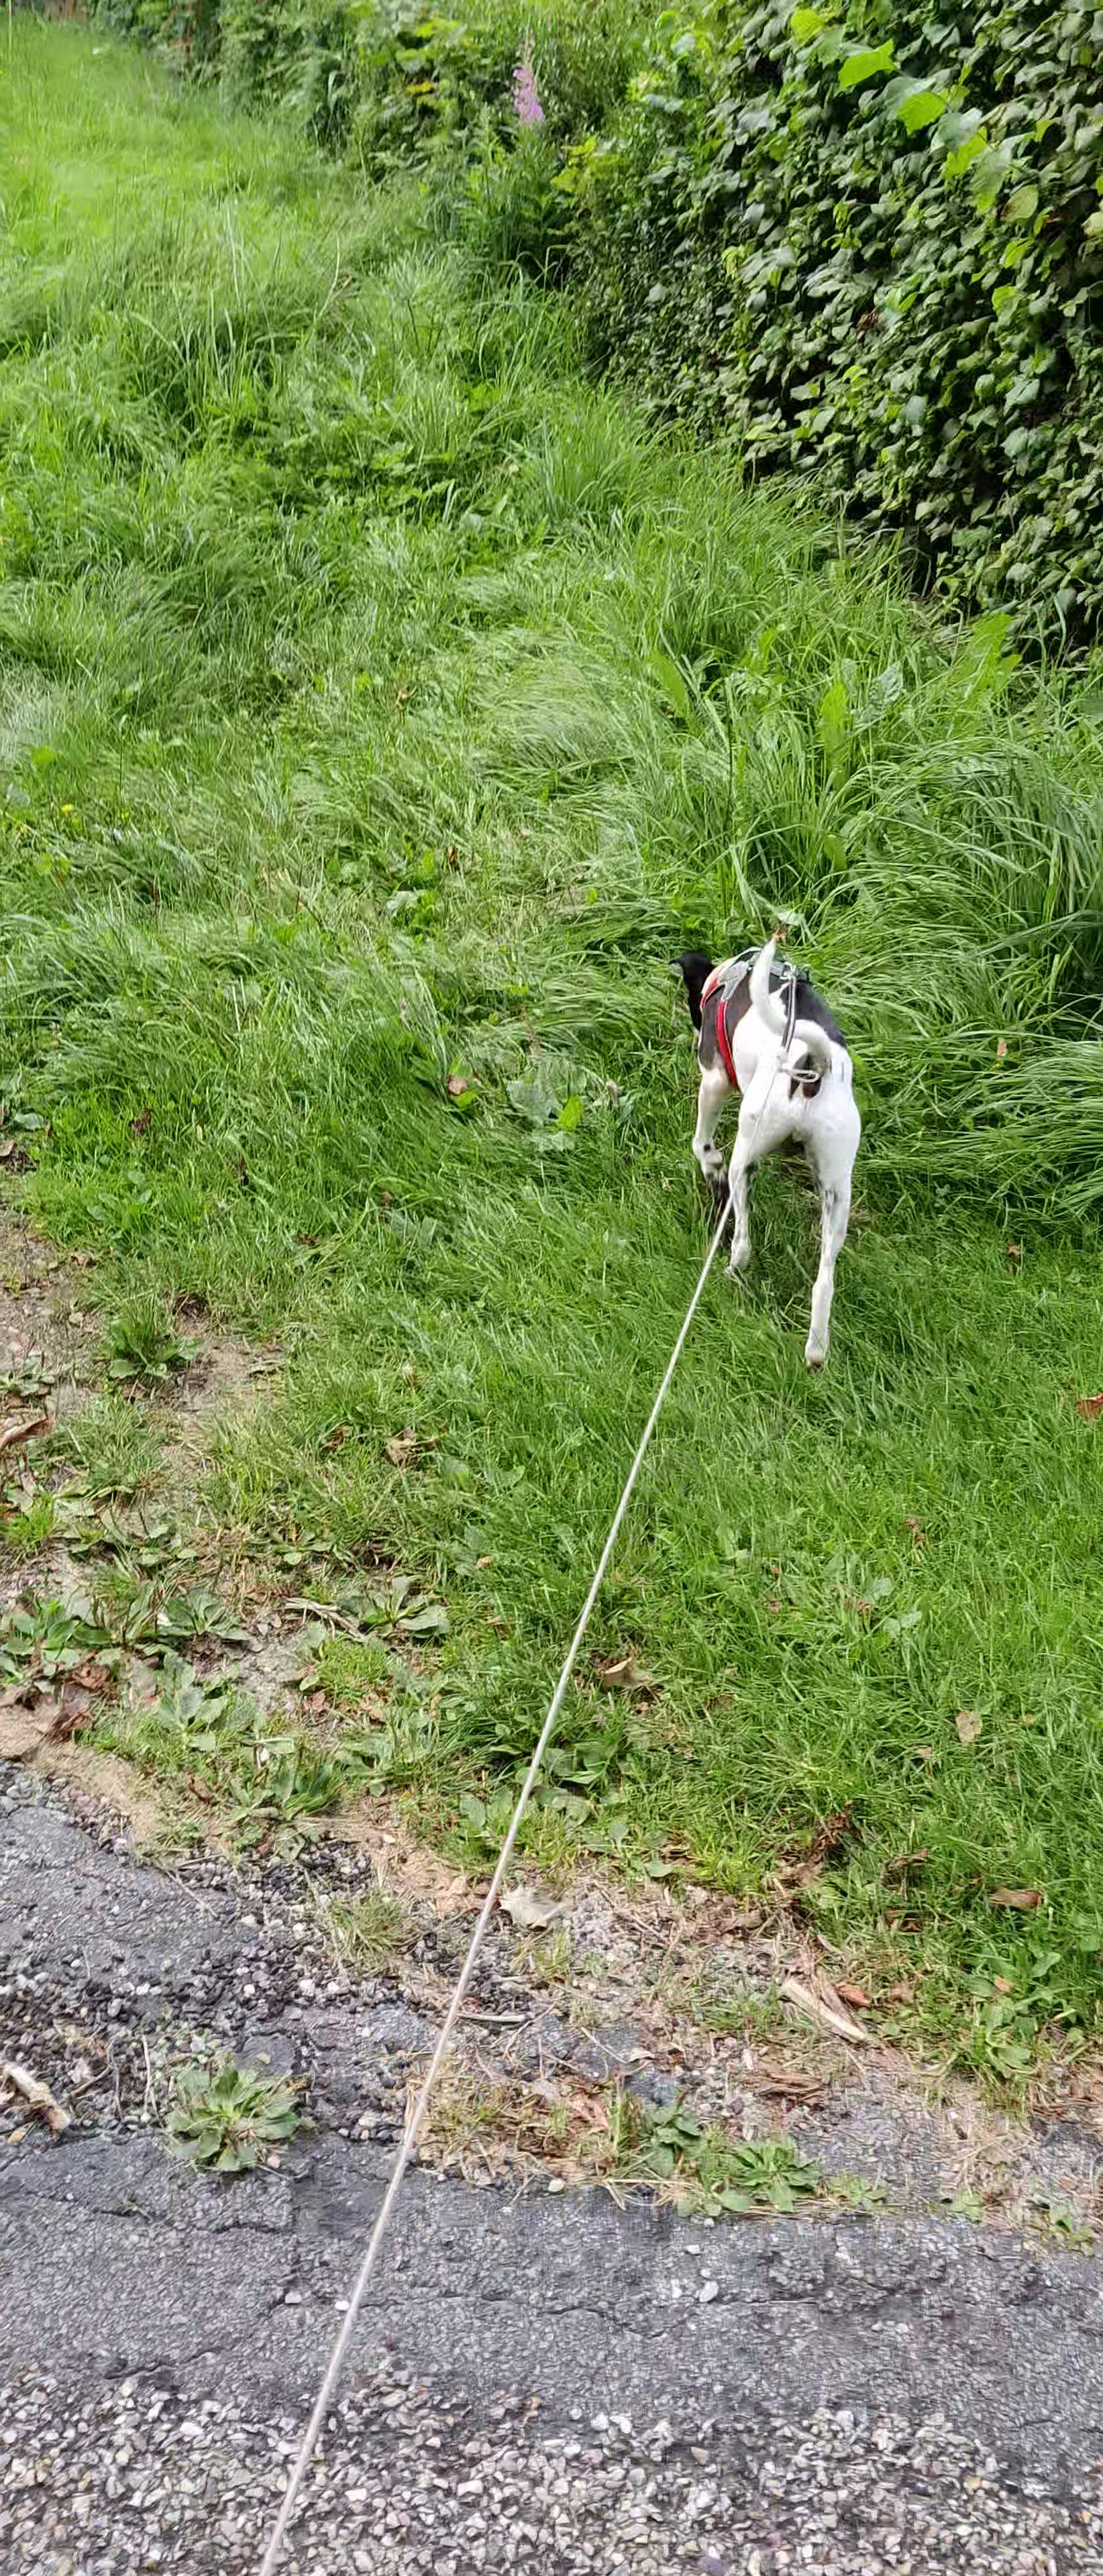Dog: (659, 928, 875, 1382)
